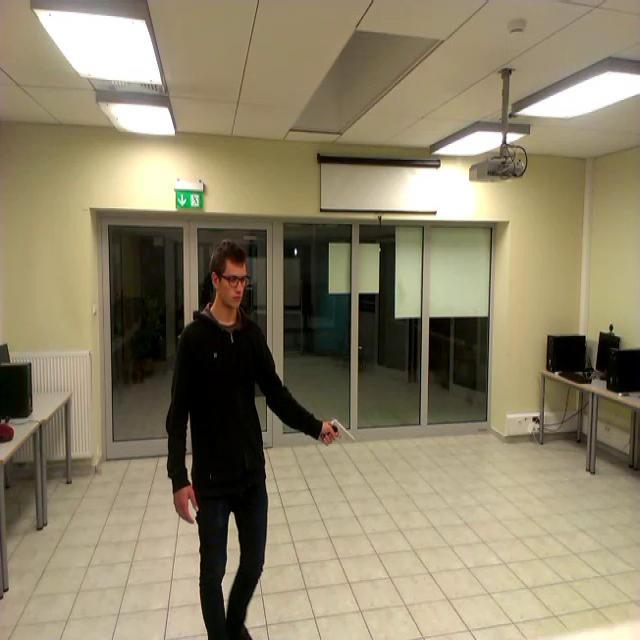weapon: (322, 421, 356, 447)
